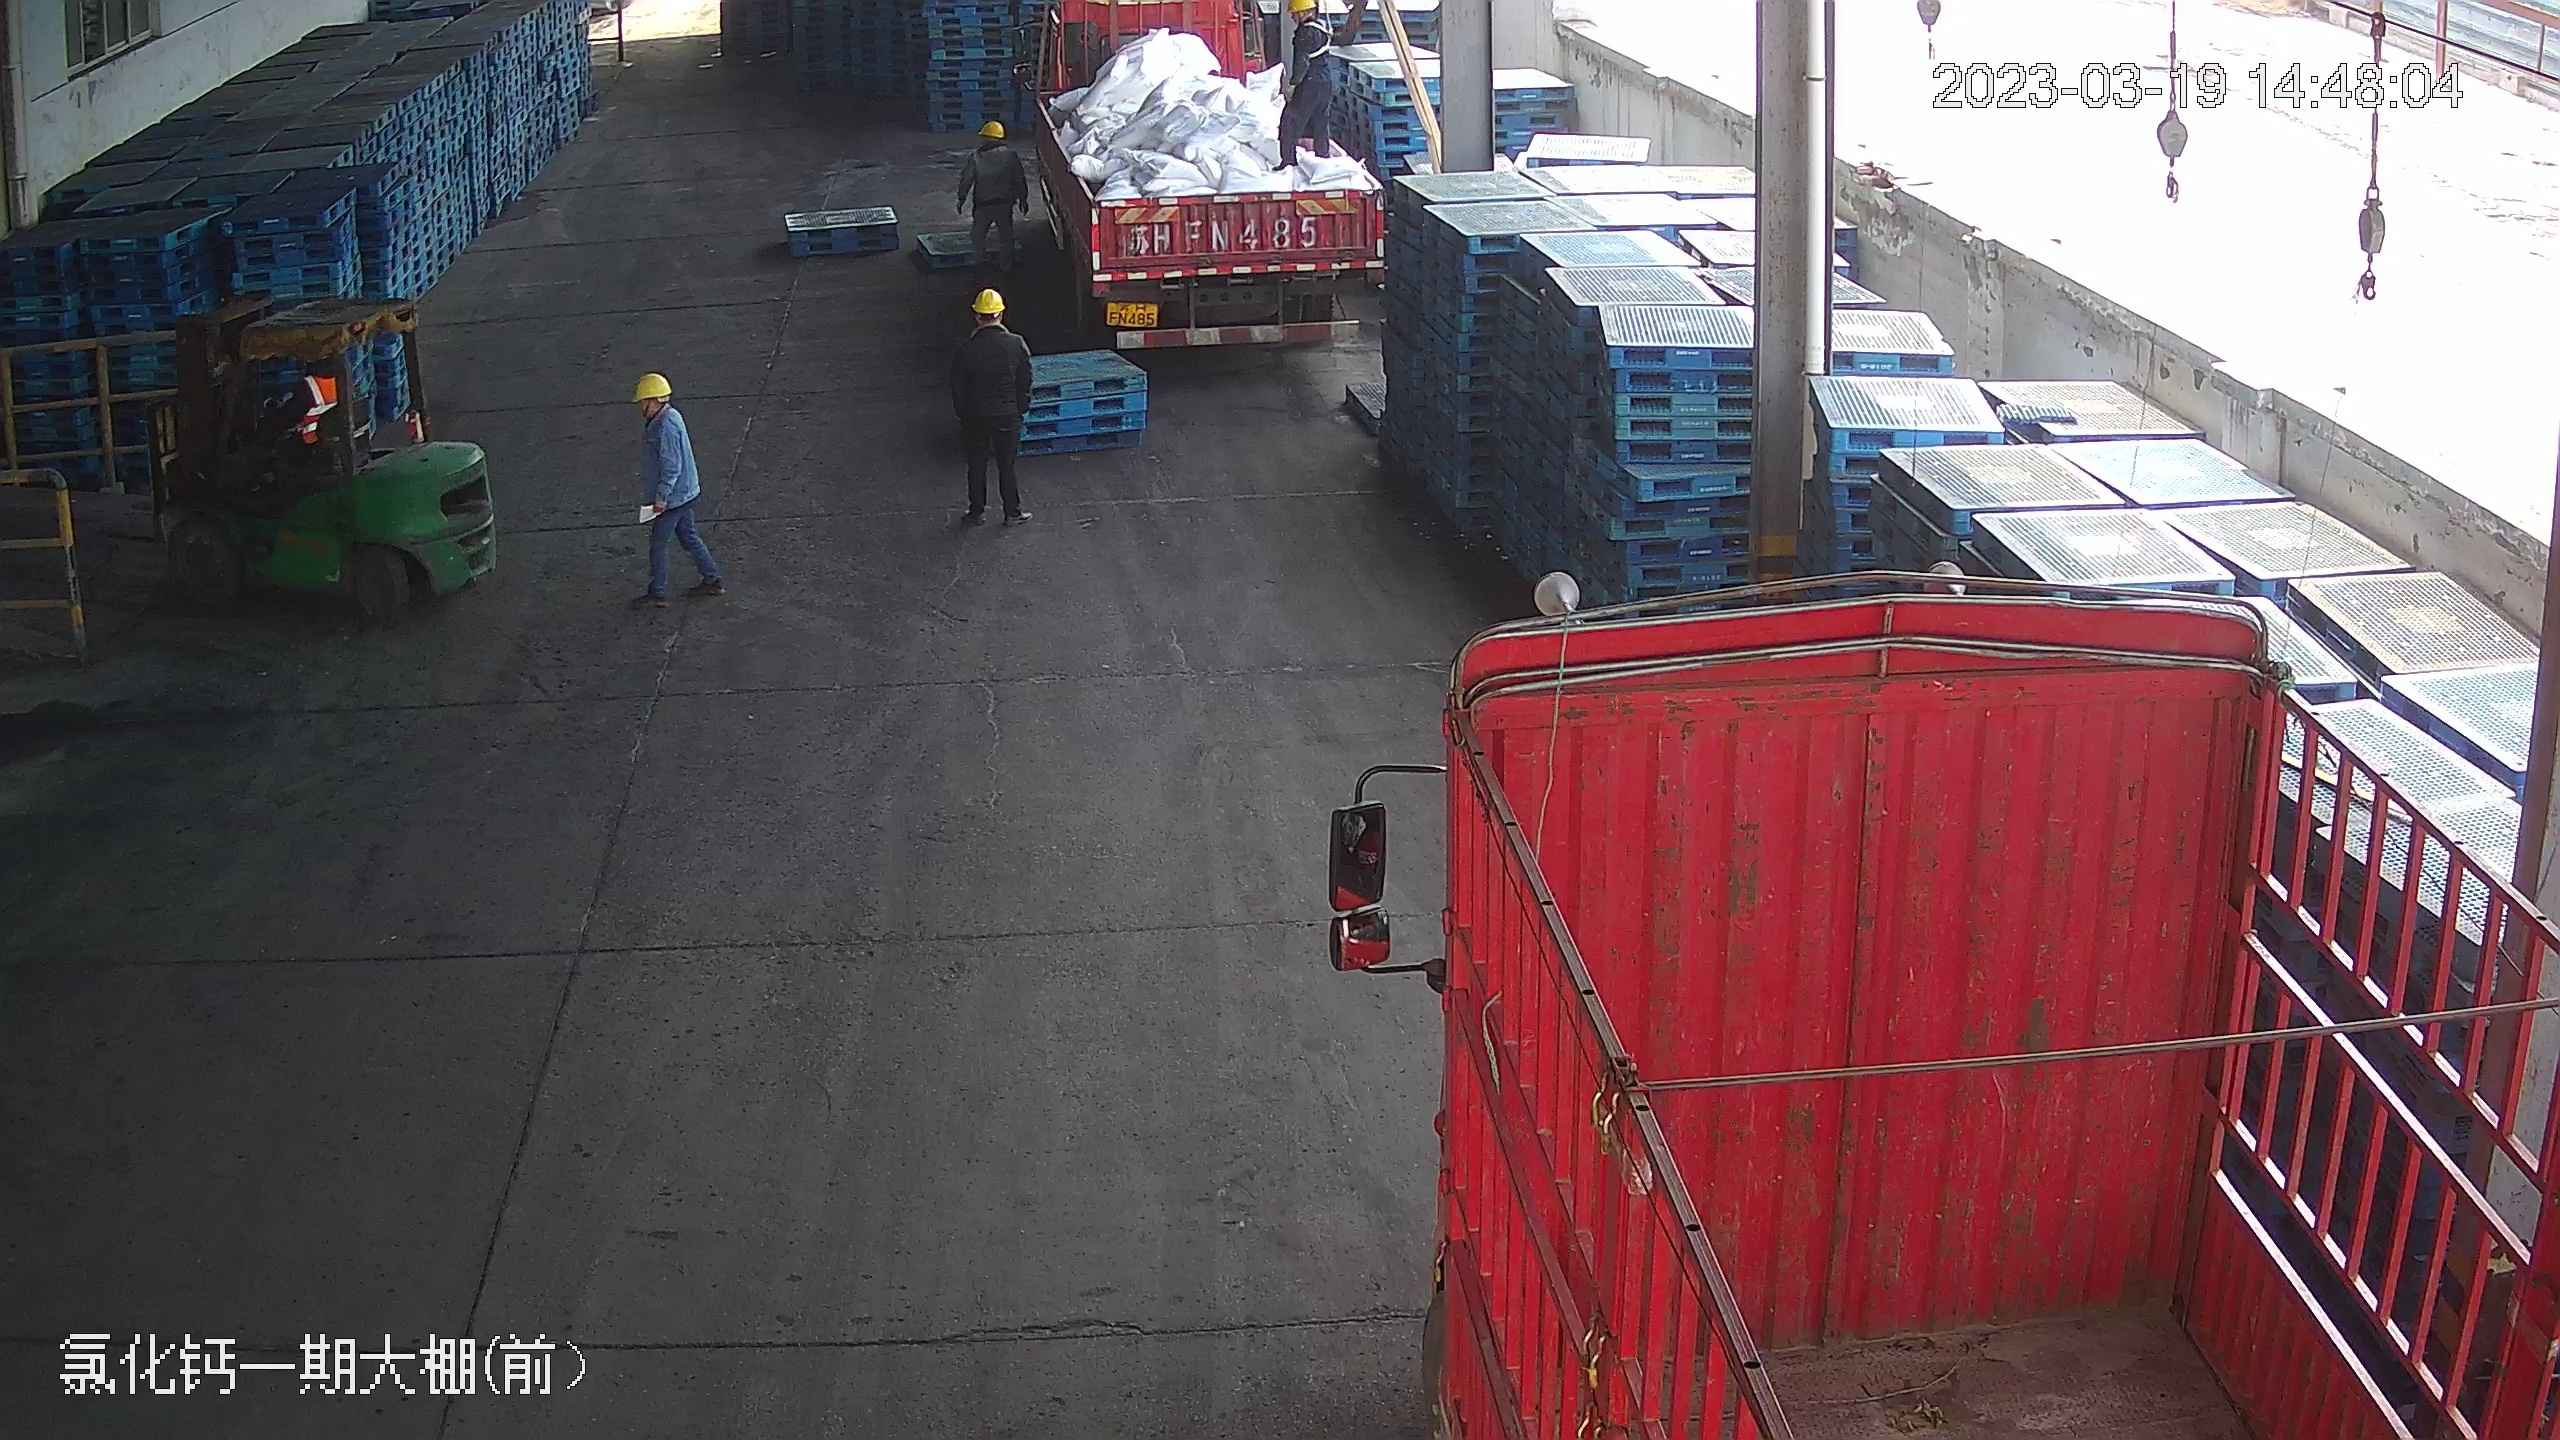belt: (1307, 17, 1335, 61)
head: (945, 283, 1035, 526), (951, 286, 1026, 355), (629, 369, 689, 449), (1283, 1, 1337, 57), (967, 116, 1018, 167)
helmet: (625, 367, 689, 448), (969, 116, 1016, 163), (632, 369, 672, 400), (969, 285, 1006, 313), (980, 118, 1007, 135), (1288, 1, 1320, 16)
people: (627, 367, 729, 610), (944, 282, 1036, 532), (1271, 1, 1337, 173), (957, 115, 1025, 255)
truck: (1391, 537, 2552, 1440), (1022, 1, 1389, 359)
